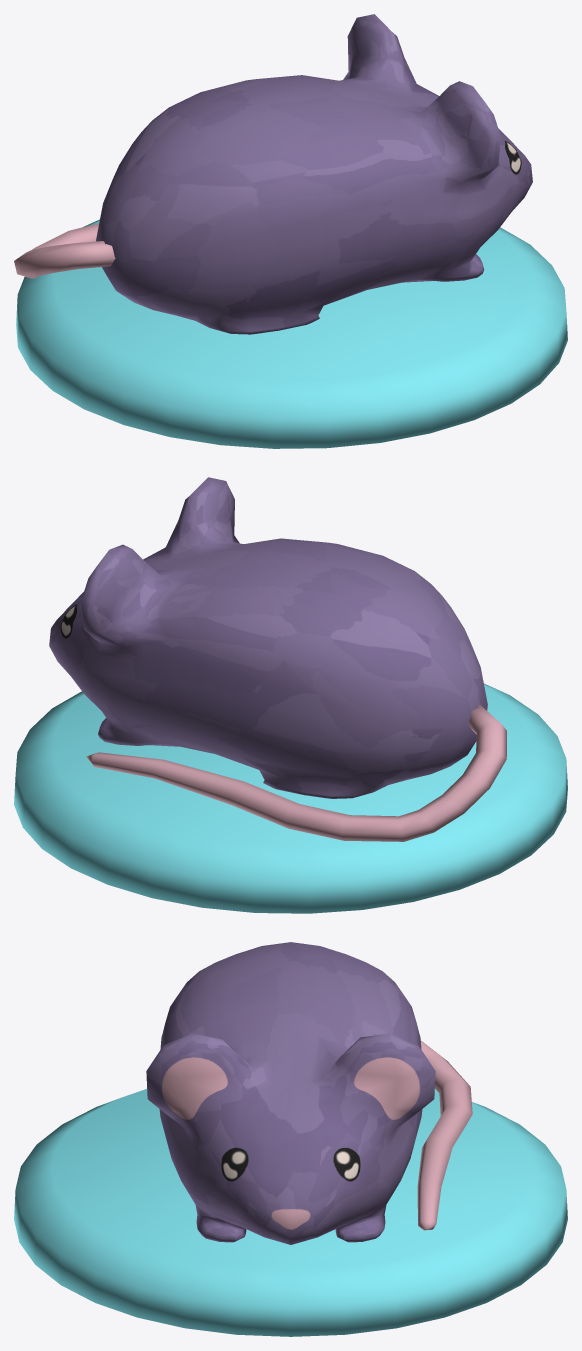
The model's file is fluffulis mouse.fbx.
3 renders of one model, top to bottom at view 1: azimuth 30°, elevation 25°; view 2: azimuth 150°, elevation 25°; view 3: azimuth 270°, elevation 25°, orthographic.
Parts seen in each view (by area): view 1: mouse; view 2: mouse; view 3: mouse.
Part boxes in pixels (bbox=[...]): mouse: bbox=[14, 14, 567, 448]; mouse: bbox=[14, 477, 567, 913]; mouse: bbox=[14, 942, 567, 1336].
Bounding box in the file's own units: 50 × 25 × 50.
